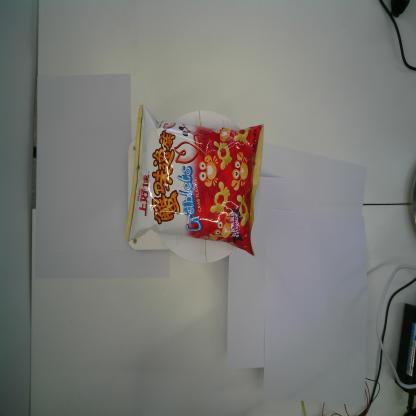Puffed Food: (125, 103, 264, 258)
